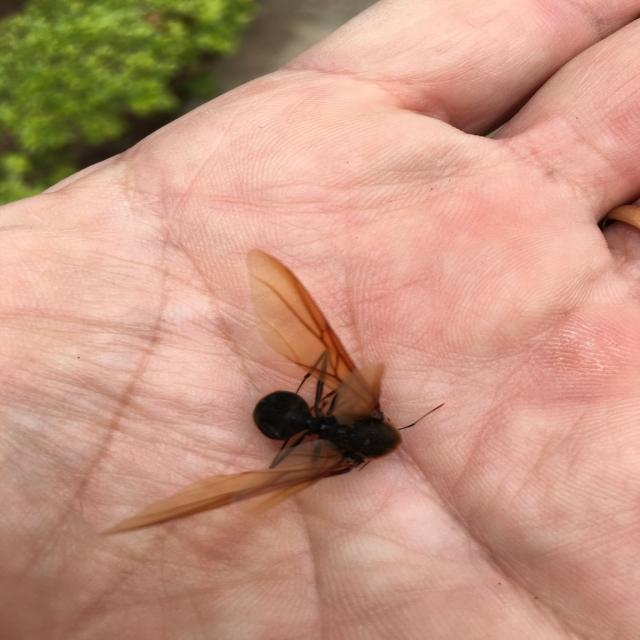Dead-Male-Alate: (99, 248, 445, 536)
